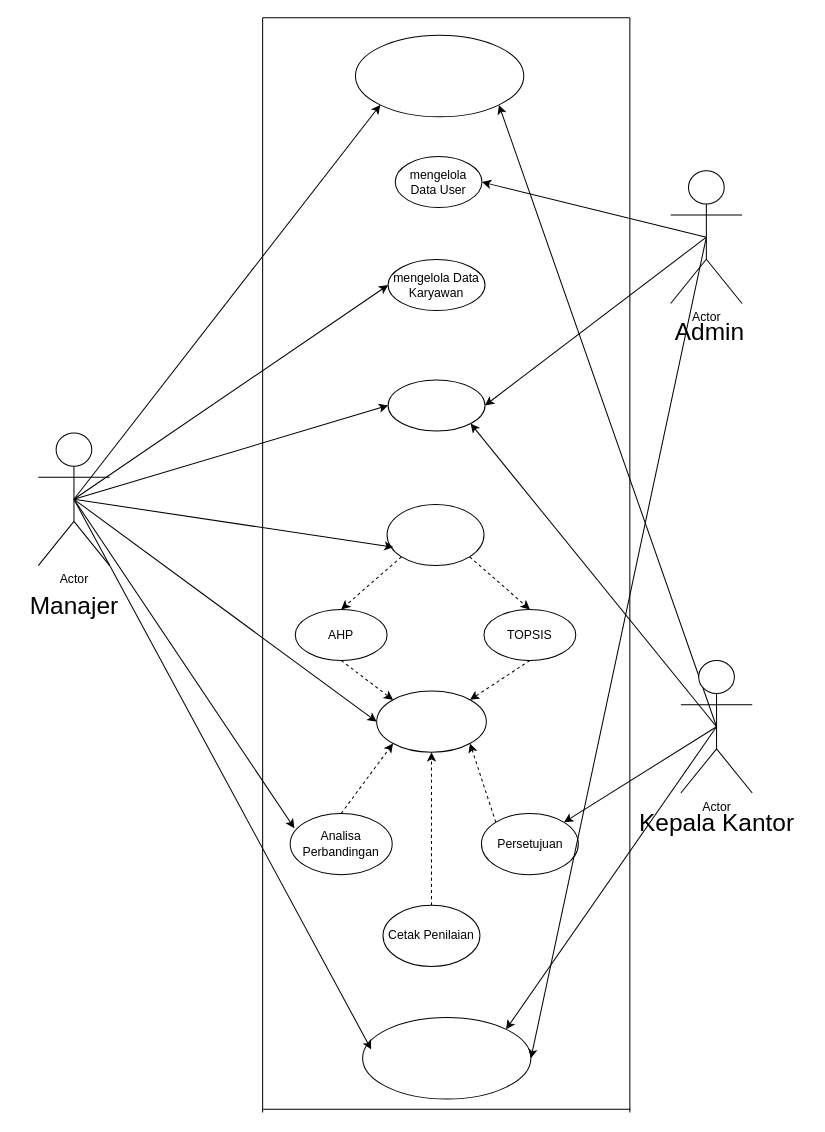
Some shapes in this 825 by 1132 pixel diagram are drawn without their labels. The shapes that lost their labels are listed below. From the top down, each one's centre as x and y in pixels, then its label:
At (439,75): "LOGIN".
At (436,405): "Ubah Password".
At (435,534): "bobot Kriteria".
At (431,721): "Penilaian".
At (446,1057): "LOGOUT".
